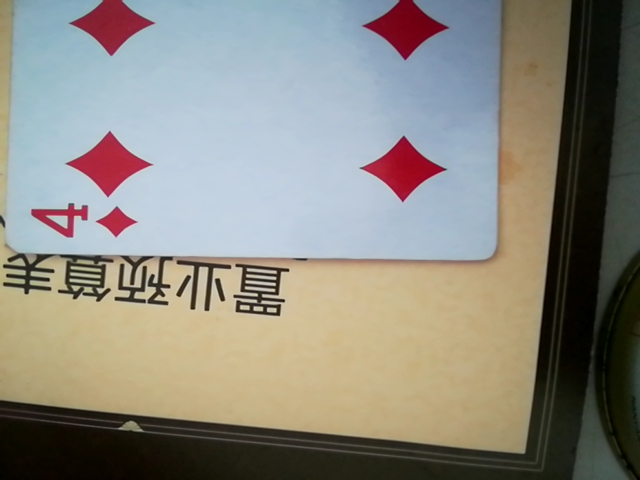fk 4: (7, 0, 503, 260)
